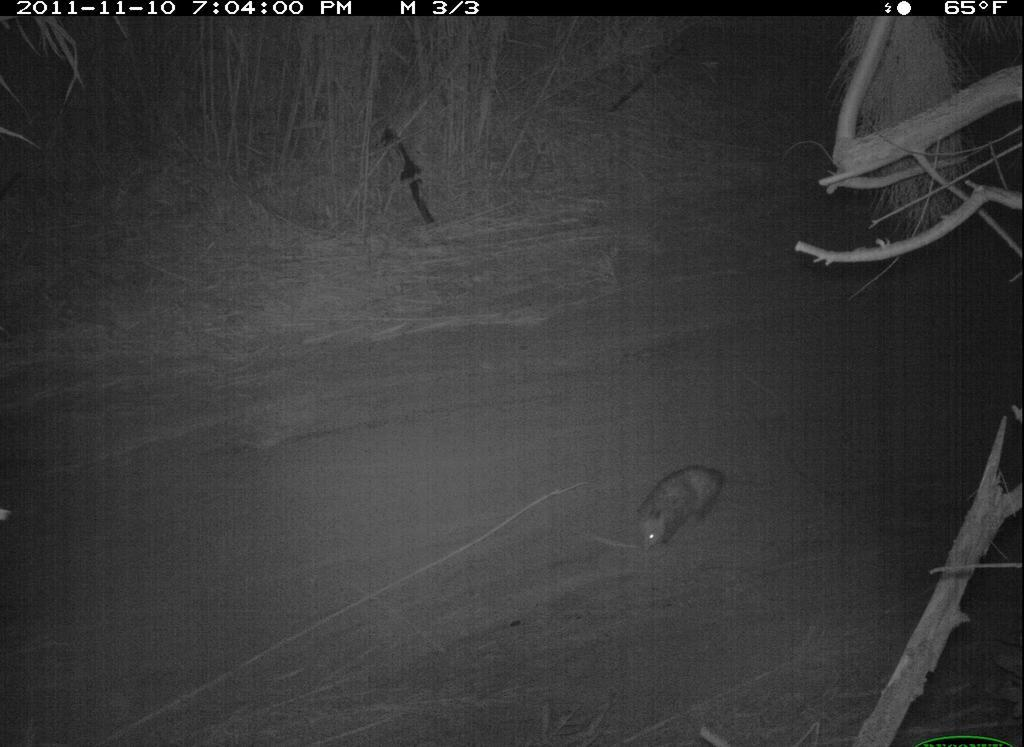opossum: (618, 457, 745, 557)
